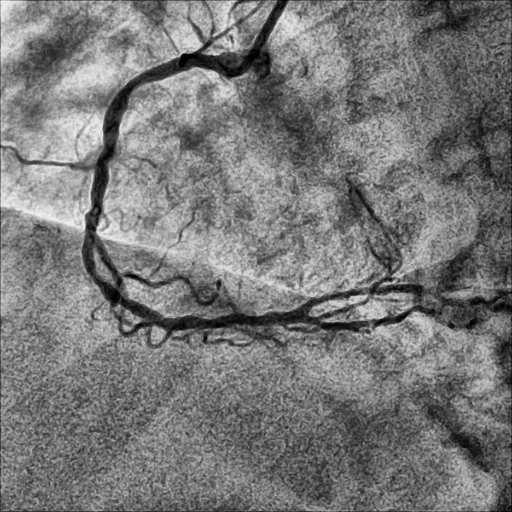pborca: (297, 284, 511, 315)
pda: (300, 306, 500, 331)
rca: (82, 52, 308, 331)
